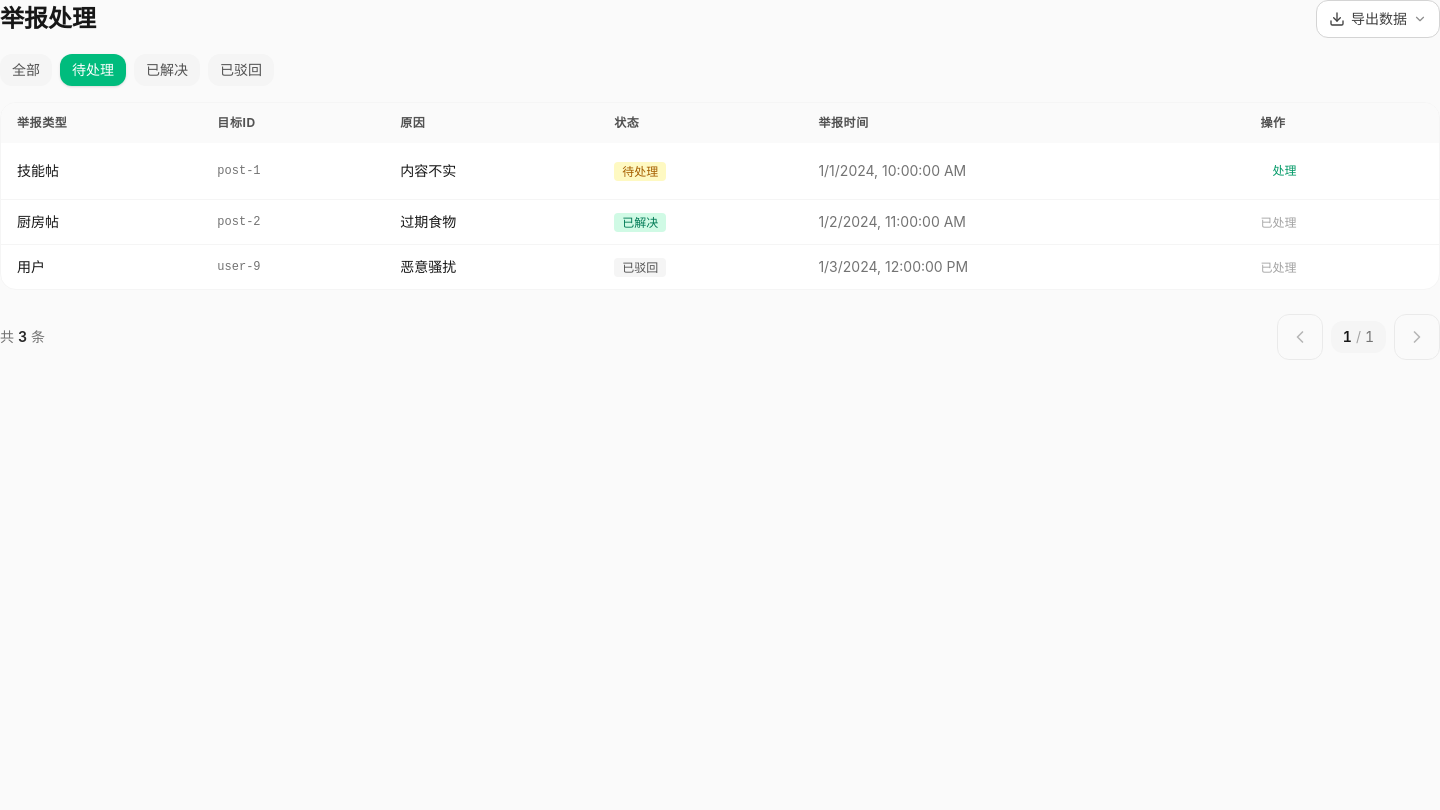
ReportManagement 处理弹窗 › 处理失败显示错误提示
This screenshot has width=1440, height=810.
Expected: the text "内容不实" is shown, left=384, top=143, right=598, bottom=200
Click the button "处理" at (1284, 171), box left=1260, top=155, right=1308, bottom=187
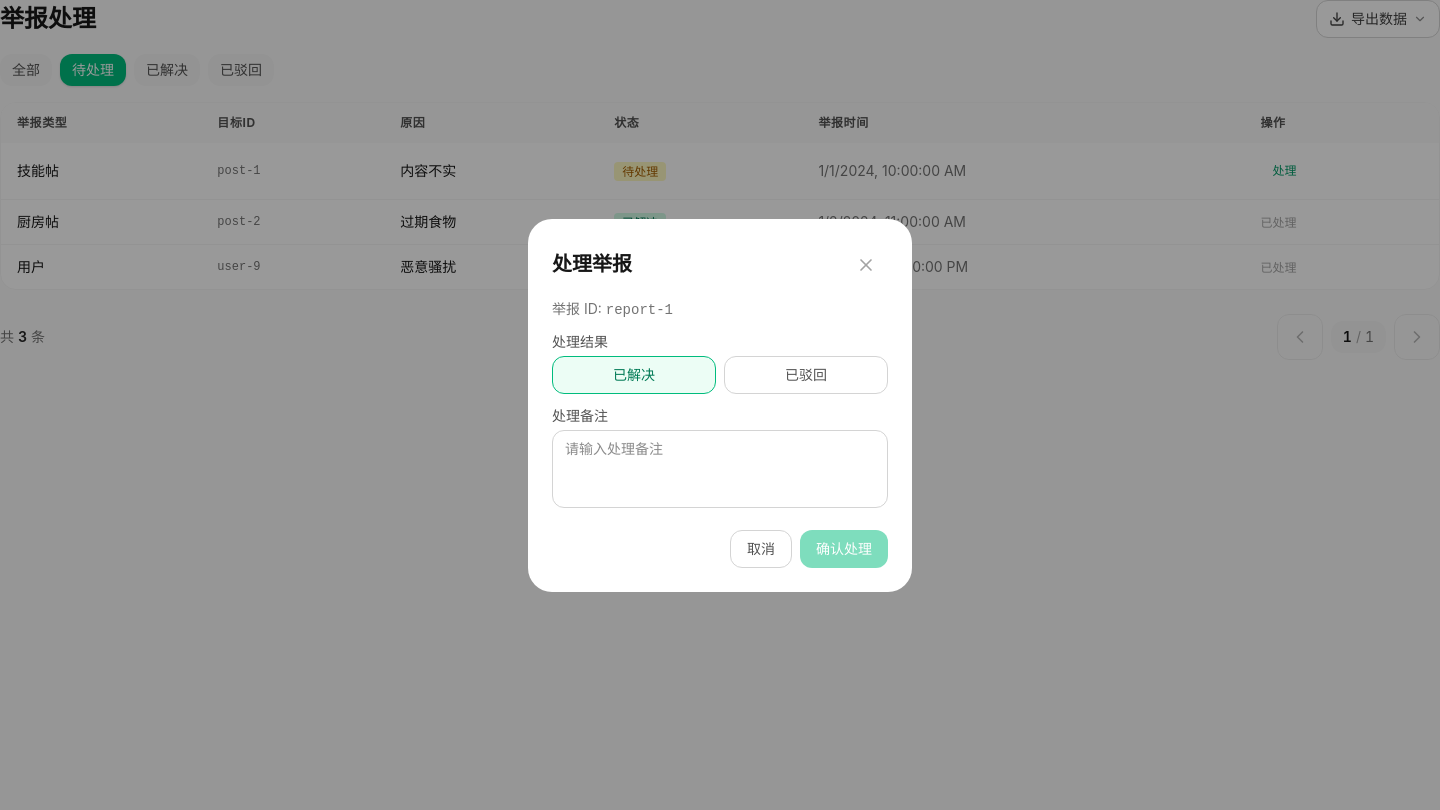
Type "测试备注" into the text box with placeholder "请输入处理备注" at (720, 468), box left=552, top=430, right=888, bottom=508
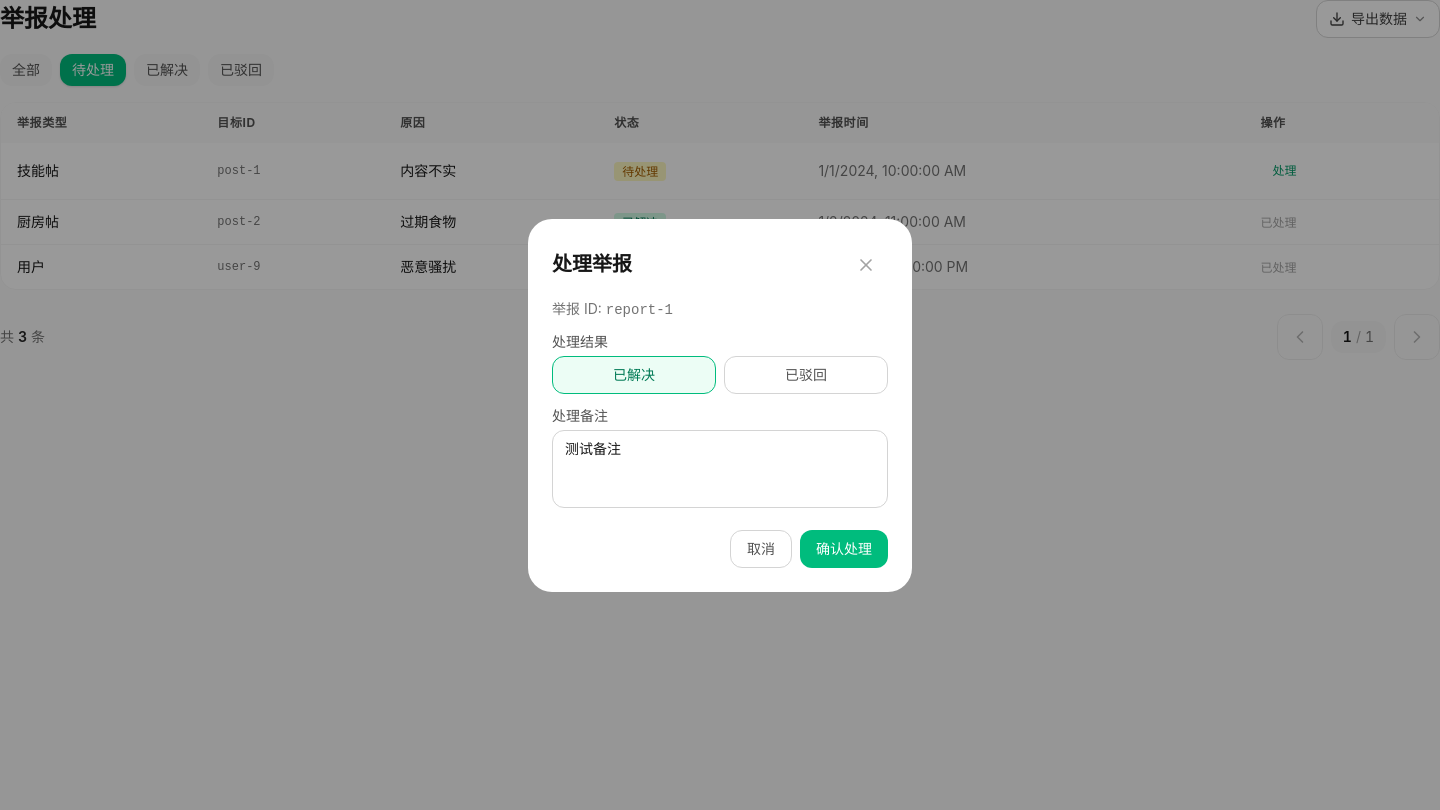
Click the button "确认处理" at (844, 548), box left=800, top=530, right=888, bottom=568
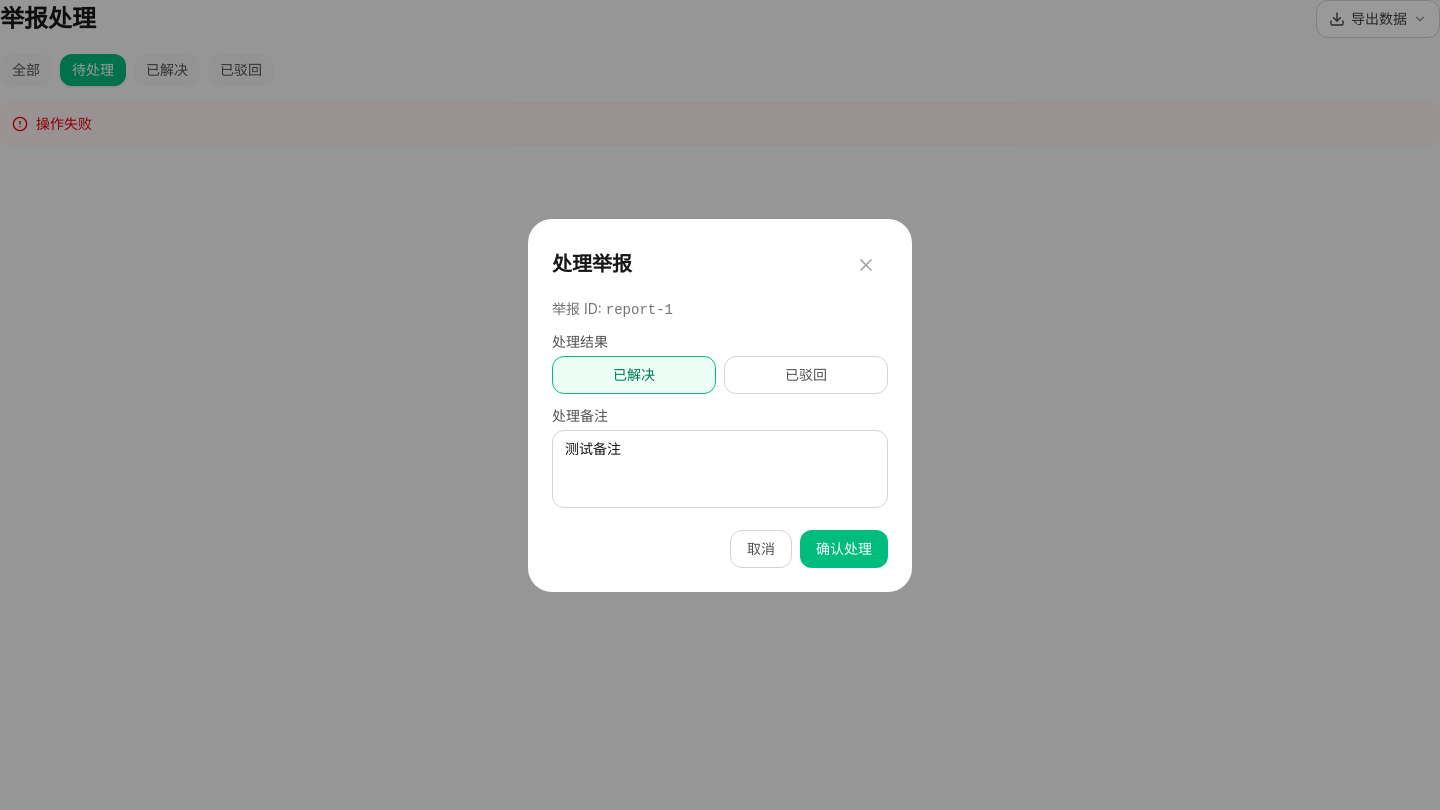
Expected: the text "操作失败" is shown, left=0, top=102, right=1439, bottom=146
